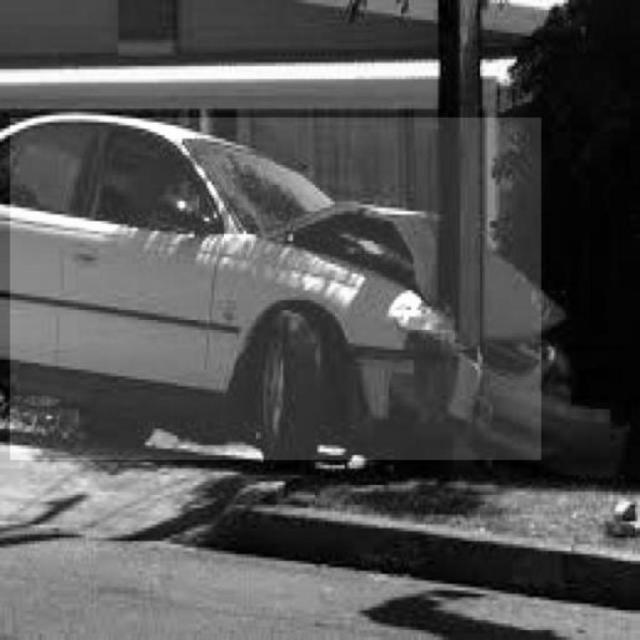accident: (11, 118, 542, 460)
